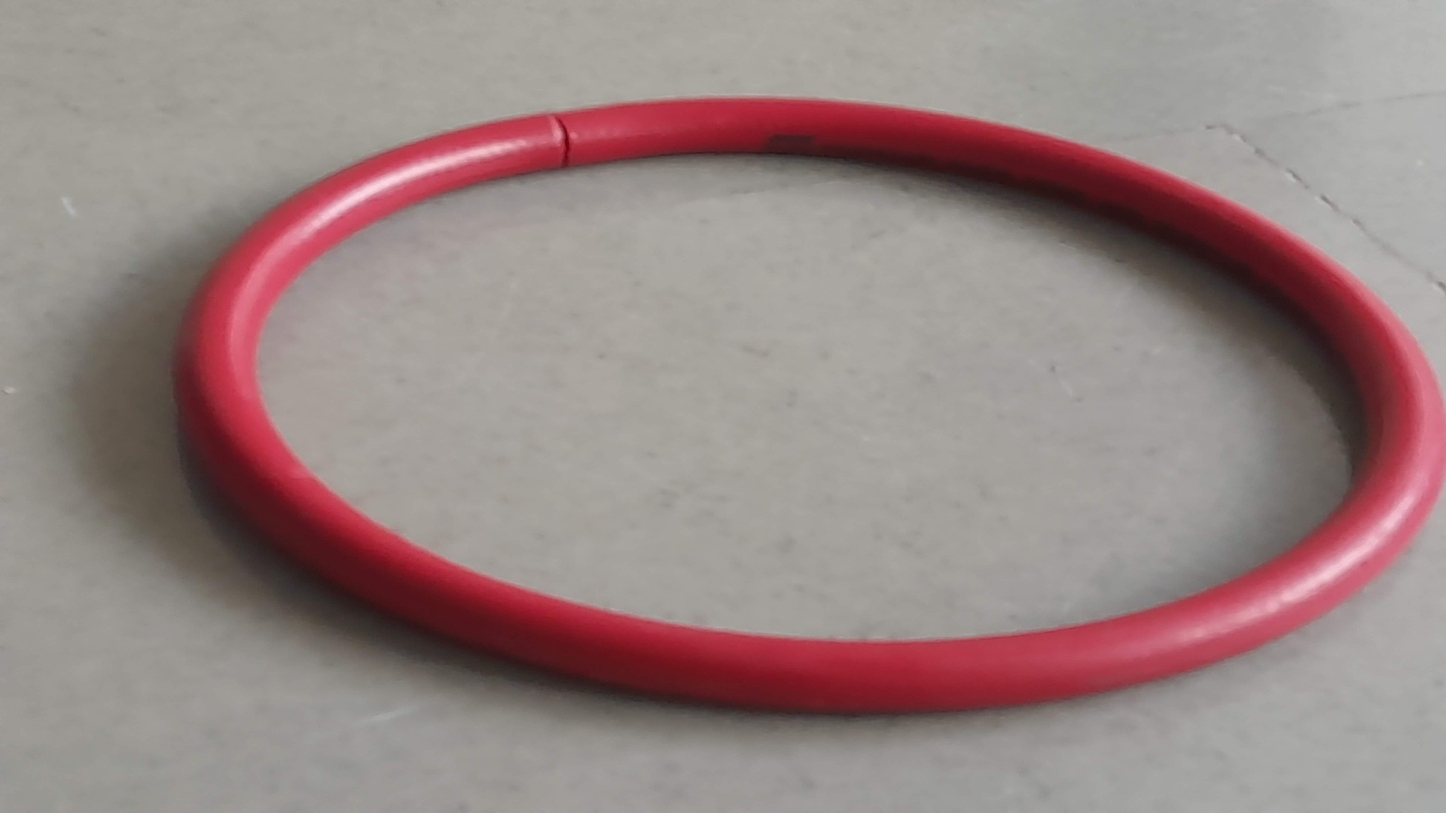Red ring: (186, 99, 1446, 708)
